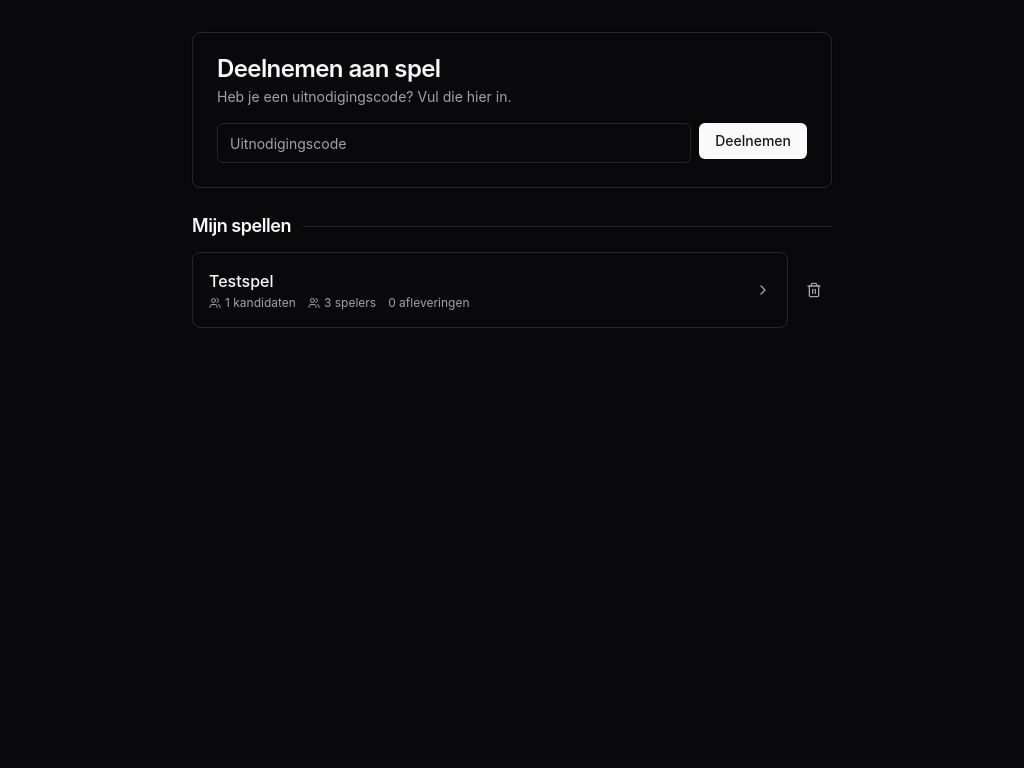
Test case: HomePage › keeps game in list when deletion is cancelled
Check: the text "Testspel" is shown, box [209,271,274,291]
Click the button named "spel verwijderen".
click(814, 290)  # box [796,272,832,308]
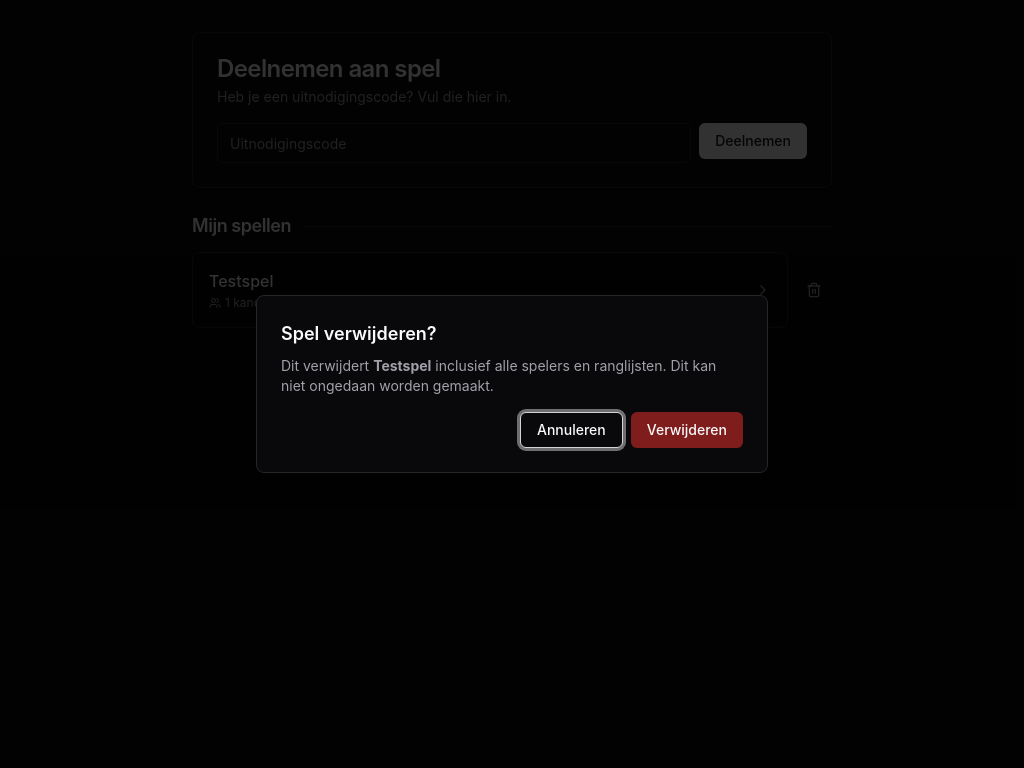
Click the button "Annuleren".
click(571, 430)  # box [520,412,623,448]
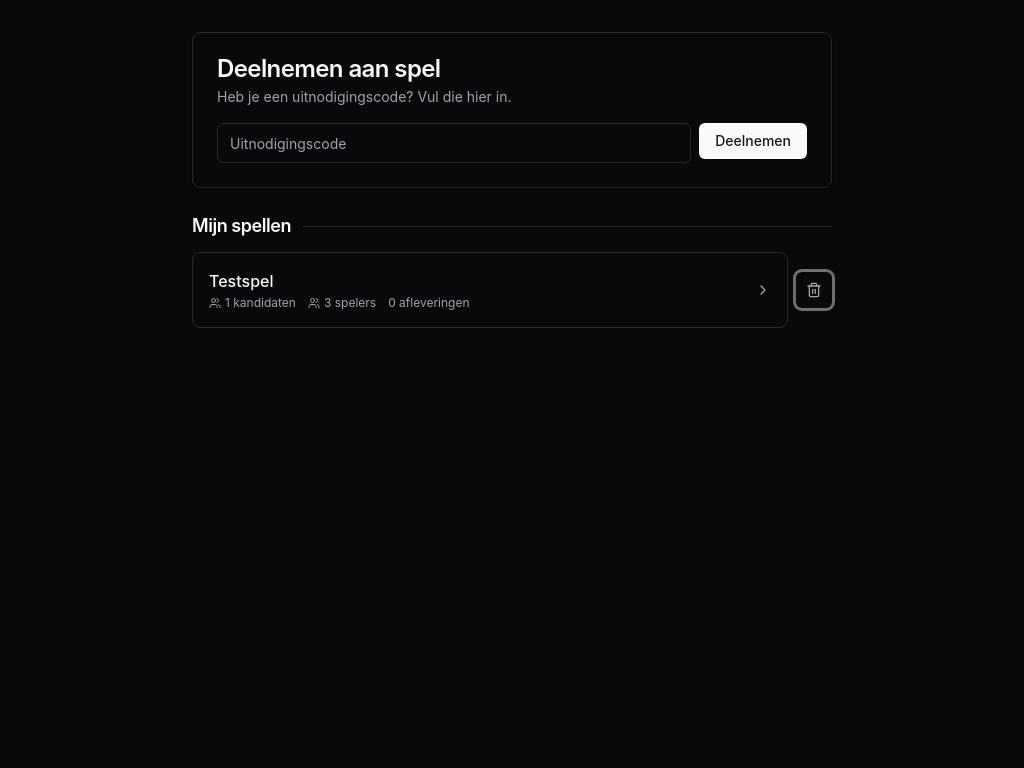
Check: the text "Testspel" is shown, box [209,271,274,291]
Check: the dialog is gone
